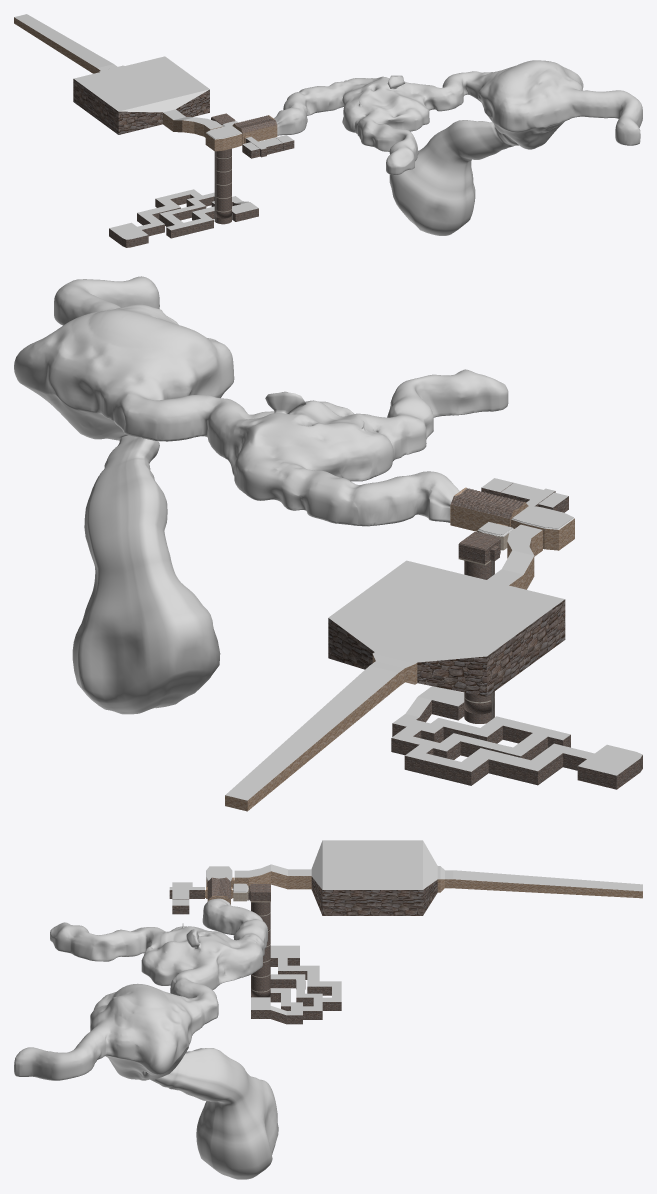
File: Cave0.fbx
3 renders of one model, top to bottom at view 1: azimuth 30°, elevation 25°; view 2: azimuth 150°, elevation 25°; view 3: azimuth 270°, elevation 25°, orthographic. The views are drawn at different scales.
Parts seen in each view (by area): view 1: Cave 0, Castle-BossHall, Castle -Underground, Castle - Elevotor's Room, Castle-Hall-Kitchen, Castle-Hall, Castle-Hall2; view 2: Cave 0, Castle-BossHall, Castle -Underground, Castle-Hall, Castle-Hall2, Castle - Room2, Castle-Hall-Kitchen, Castle - Elevotor's Room; view 3: Cave 0, Castle-BossHall, Castle -Underground, Castle - Elevotor's Room, Castle-Hall-Kitchen, Castle - Room2, Castle-Hall.
Part boxes in pixels (x1=…): Cave 0: x1=274, y1=60, x2=642, y2=235; Castle-BossHall: x1=14, y1=14, x2=223, y2=137; Castle -Underground: x1=109, y1=189, x2=258, y2=247; Castle - Elevotor's Room: x1=214, y1=148, x2=232, y2=224; Castle-Hall-Kitchen: x1=242, y1=135, x2=294, y2=158; Castle-Hall: x1=232, y1=115, x2=277, y2=143; Castle-Hall2: x1=205, y1=125, x2=242, y2=151; Cave 0: x1=14, y1=276, x2=508, y2=714; Castle-BossHall: x1=225, y1=524, x2=565, y2=811; Castle -Underground: x1=391, y1=686, x2=642, y2=789; Castle-Hall: x1=450, y1=487, x2=528, y2=531; Castle-Hall2: x1=511, y1=505, x2=574, y2=550; Castle - Room2: x1=458, y1=522, x2=513, y2=565; Castle-Hall-Kitchen: x1=481, y1=478, x2=568, y2=512; Castle - Elevotor's Room: x1=464, y1=560, x2=494, y2=723; Cave 0: x1=14, y1=898, x2=278, y2=1179; Castle-BossHall: x1=234, y1=840, x2=642, y2=915; Castle -Underground: x1=251, y1=945, x2=341, y2=1024; Castle - Elevotor's Room: x1=251, y1=902, x2=270, y2=997; Castle-Hall-Kitchen: x1=169, y1=882, x2=204, y2=914; Castle - Room2: x1=233, y1=883, x2=270, y2=902; Castle-Hall: x1=205, y1=877, x2=233, y2=899.
Bounding box in the file's own units: 5566 × 2318 × 6400.
